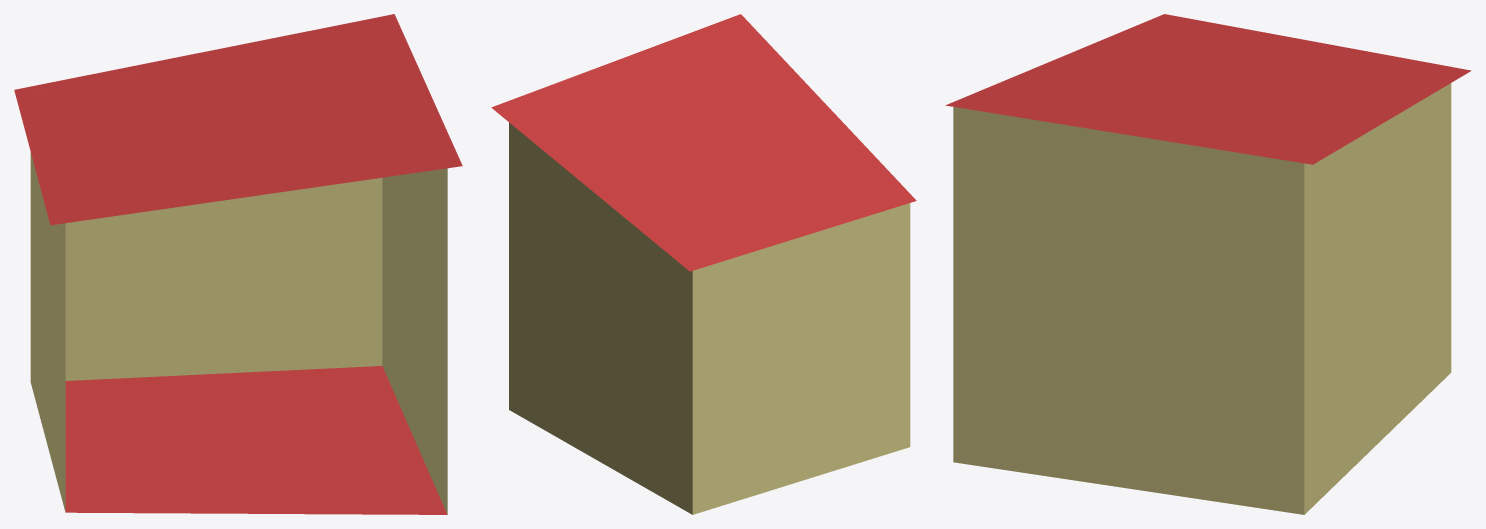
The picture shows the model from 3 angles, left to right: view 1: azimuth 30°, elevation 25°; view 2: azimuth 150°, elevation 25°; view 3: azimuth 270°, elevation 25°; orthographic projection. The views are drawn at different scales.
Size of the model in its own units: 7.98 by 8.44 by 6.4.
